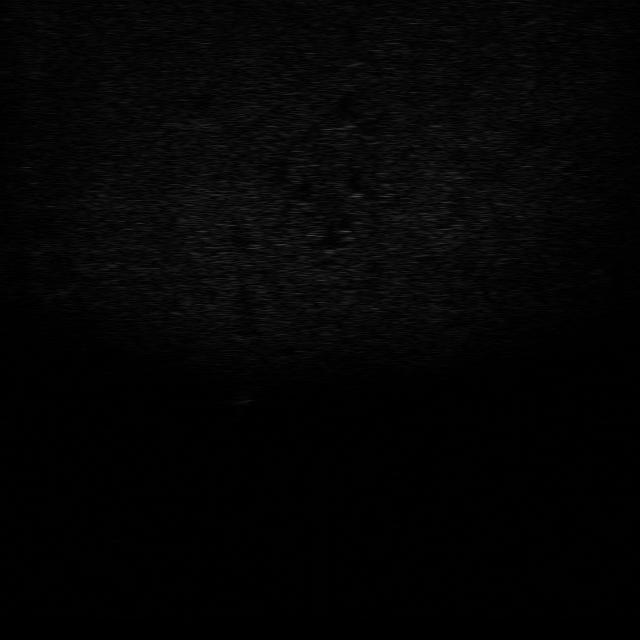human body: (212, 376, 262, 421)
